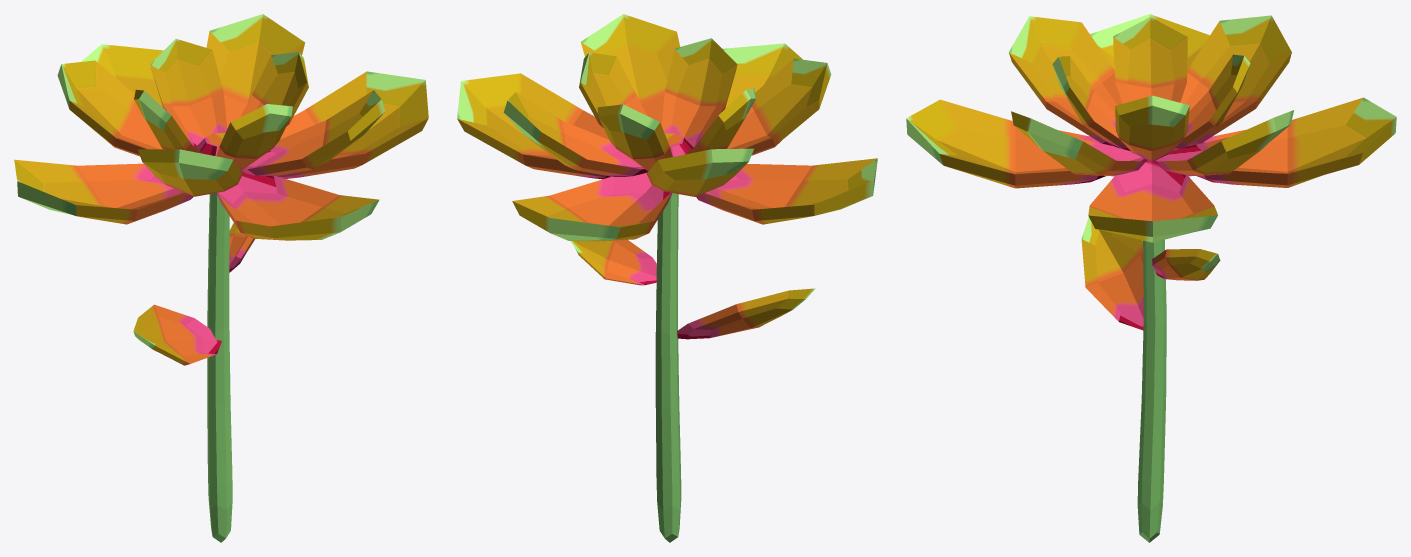
Rendered from Flower_5.fbx.
3 views of the same model, side by side, from view 1: azimuth 30°, elevation 25°; view 2: azimuth 150°, elevation 25°; view 3: azimuth 270°, elevation 25° (orthographic). The views are drawn at different scales.
Parts seen in each view (by area): view 1: Flower_5; view 2: Flower_5; view 3: Flower_5.
Boxes of the visible parts, x1,y1,x2,y2 form: Flower_5: [14, 14, 428, 542]; Flower_5: [457, 14, 877, 542]; Flower_5: [906, 14, 1396, 542].
Size of the model in its own units: 36.92 by 40.48 by 36.92.
